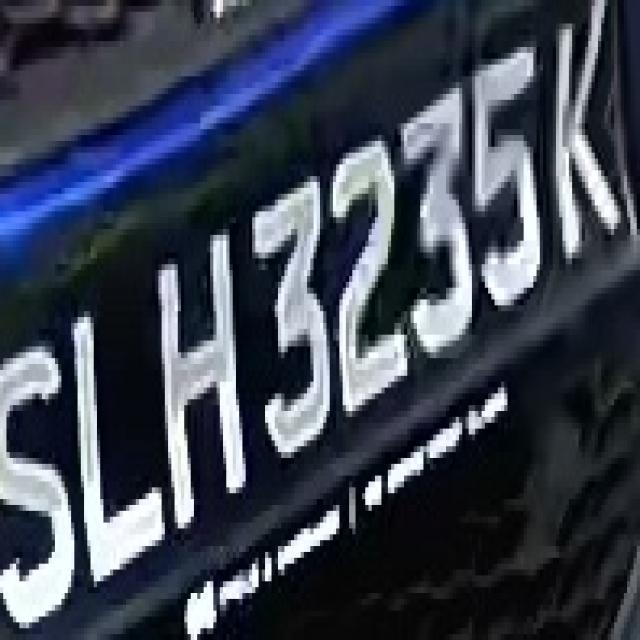2: (314, 123, 420, 429)
3: (242, 164, 340, 476), (391, 76, 478, 376)
5: (462, 29, 546, 329)
H: (136, 223, 258, 540)
K: (543, 6, 630, 276)
L: (74, 258, 178, 582)
